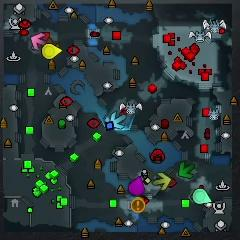Other: (131, 197, 146, 213)
p2: (193, 189, 212, 204)
p3: (128, 176, 145, 195)
p4: (41, 43, 62, 59)
x1: (31, 33, 45, 49)
x2: (154, 172, 170, 190)
x3: (111, 111, 126, 129)
x4: (178, 162, 196, 179)
